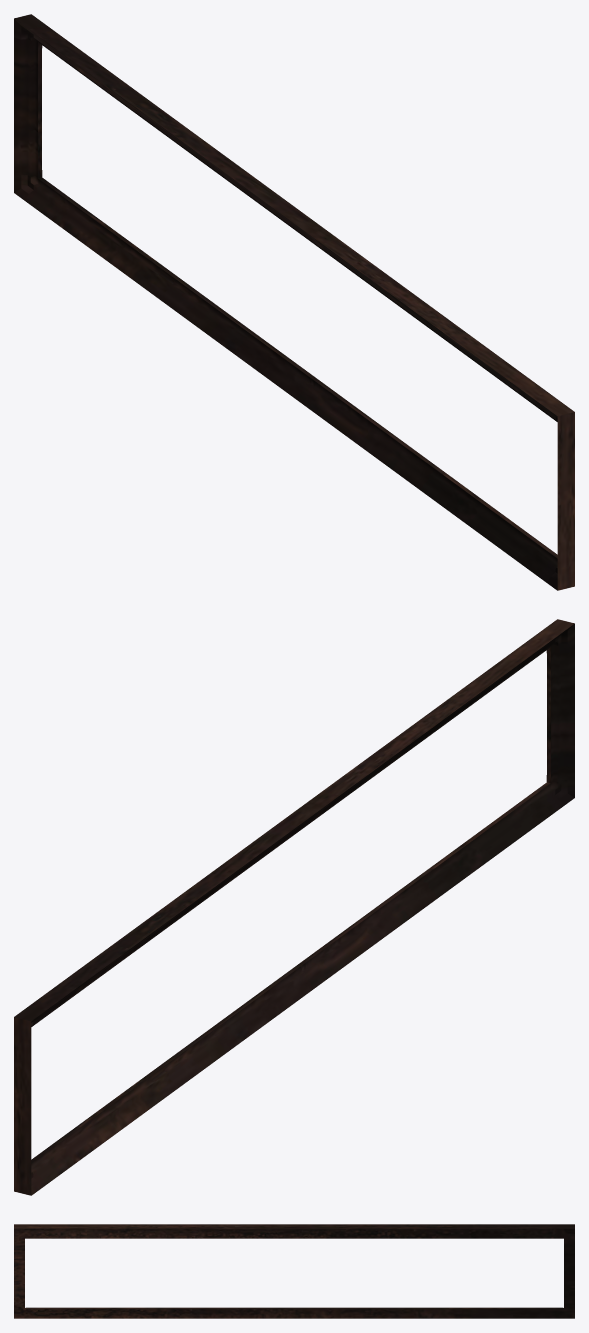
The model's file is Frame_withMaterial.fbx.
The picture shows the model from 3 angles, top to bottom: view 1: azimuth 30°, elevation 25°; view 2: azimuth 150°, elevation 25°; view 3: azimuth 270°, elevation 25°; orthographic projection. The views are drawn at different scales.
Parts seen in each view (by area): view 1: pCube3; view 2: pCube3; view 3: pCube3.
Boxes of the visible parts, x1,y1,x2,y2 form: pCube3: [14, 14, 574, 590]; pCube3: [14, 619, 574, 1195]; pCube3: [14, 1224, 574, 1318].
Bounding box in the file's own units: 0.7337 × 7 × 39.52.
Materials: 1 (1 with a texture image).
